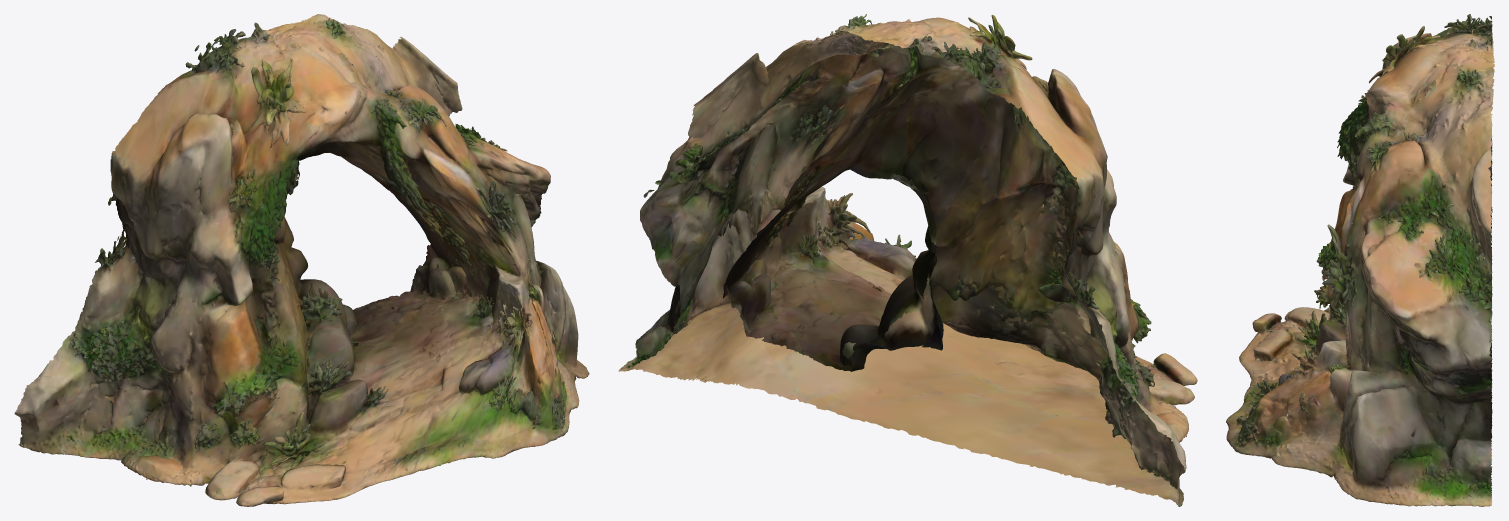
File: cavemouth2.glb
3 renders of one model, left to right at view 1: azimuth 30°, elevation 25°; view 2: azimuth 150°, elevation 25°; view 3: azimuth 270°, elevation 25°, orthographic. The views are drawn at different scales.
Visible parts, largest first — view 1: Mesh_0; view 2: Mesh_0; view 3: Mesh_0.
Part boxes in pixels (x1=…): Mesh_0: x1=14, y1=14, x2=589, y2=506; Mesh_0: x1=618, y1=14, x2=1197, y2=506; Mesh_0: x1=1226, y1=14, x2=1494, y2=506.
Bounding box in the file's own units: 1.86 × 1.28 × 0.8943.
1 material, 1 textured.
